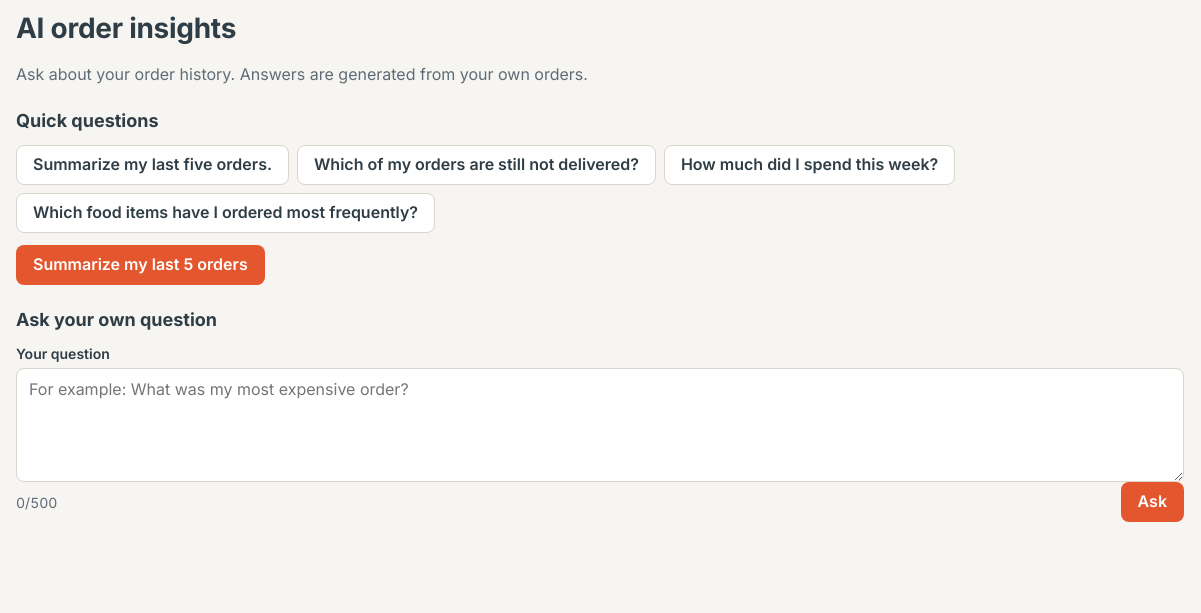
Scenario: AIInsights › shows the rate-limit message with Retry-After seconds on 429
Click the button "How much did I spend this week?" at (810, 164), box [664,144,955,184]
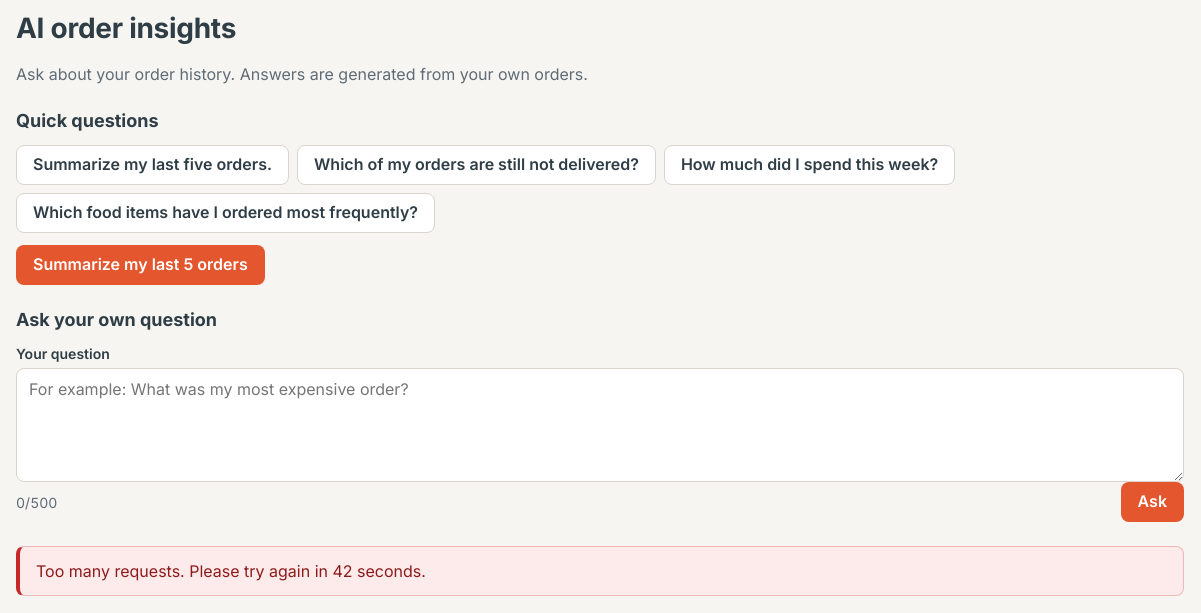
Now the text "Too many requests. Please try again in 42 seconds." is shown, box [36,561,426,581]
